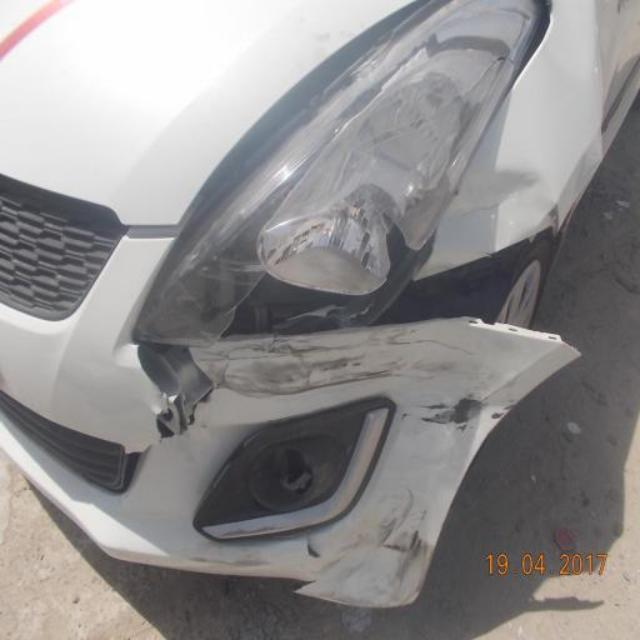crack: (117, 375, 231, 456)
dent: (419, 163, 561, 278)
dislocated part: (356, 225, 583, 360)
lamp broken: (204, 195, 438, 338)
